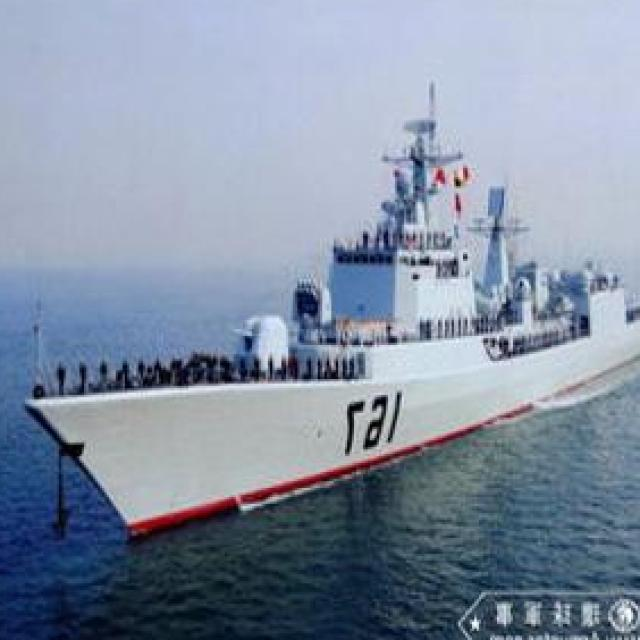navalvessels: (32, 79, 640, 538)
